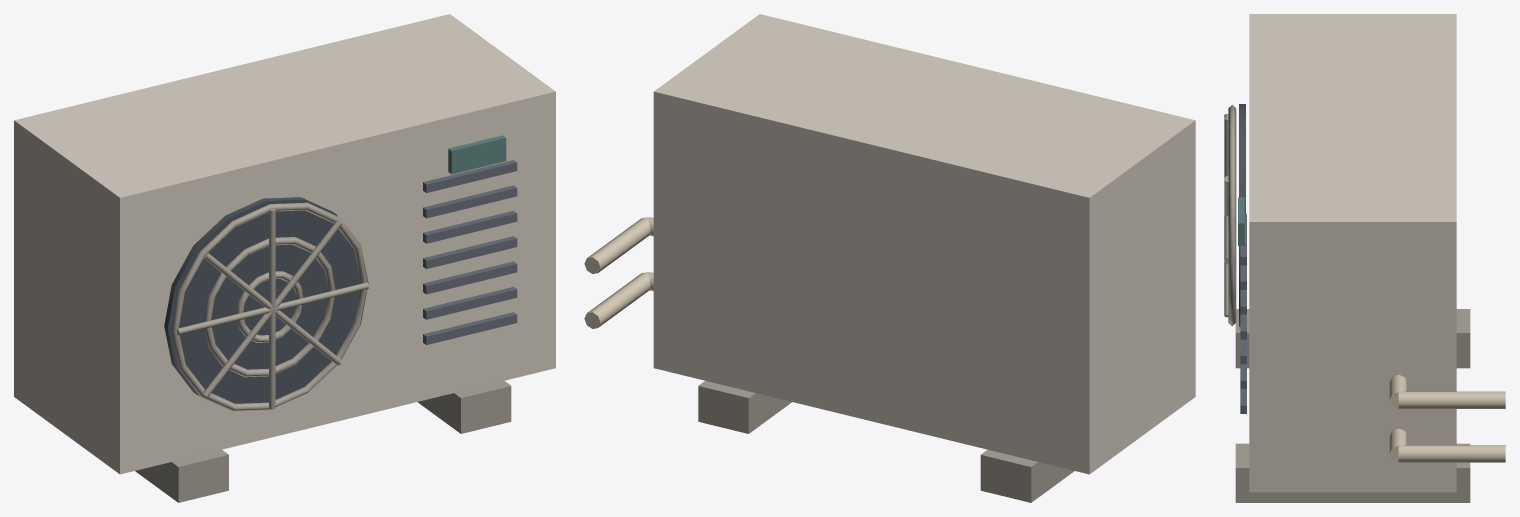
File: komachi-air-con.glb
The picture shows the model from 3 angles, left to right: view 1: azimuth 30°, elevation 25°; view 2: azimuth 150°, elevation 25°; view 3: azimuth 270°, elevation 25°; orthographic projection. The views are drawn at different scales.
Parts seen in each view (by area): view 1: Air_Con_Outdoor_Unit; view 2: Air_Con_Outdoor_Unit; view 3: Air_Con_Outdoor_Unit.
Boxes of the visible parts, box(x1,y1,x2,y2) form: Air_Con_Outdoor_Unit: box(14, 14, 555, 502); Air_Con_Outdoor_Unit: box(584, 14, 1195, 502); Air_Con_Outdoor_Unit: box(1224, 14, 1505, 502).
Bounding box in the file's own units: 0.238 × 0.148 × 0.1235.
